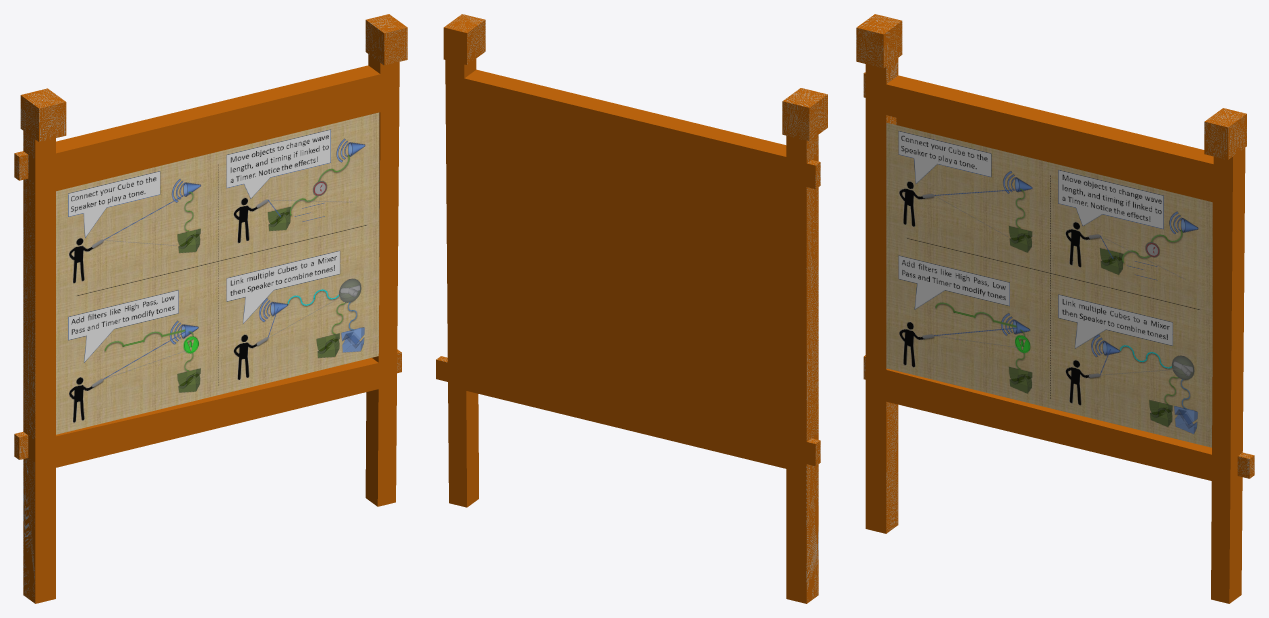
The model's file is sign2.dae.
3 renders of one model, left to right at view 1: azimuth 30°, elevation 25°; view 2: azimuth 150°, elevation 25°; view 3: azimuth 330°, elevation 25°, orthographic.
Parts seen in each view (by area): view 1: Camp_Milton_Sign_1 (×5); view 2: Camp_Milton_Sign_1 (×3); view 3: Camp_Milton_Sign_1 (×5).
Part boxes in pixels (box(x1,y1,x2,y2)): Camp_Milton_Sign_1 (×5): box(14, 14, 407, 603); Camp_Milton_Sign_1 (×3): box(436, 14, 827, 603); Camp_Milton_Sign_1 (×5): box(856, 14, 1246, 603).
Size of the model in its own units: 1.3 by 0.1092 by 1.62.
